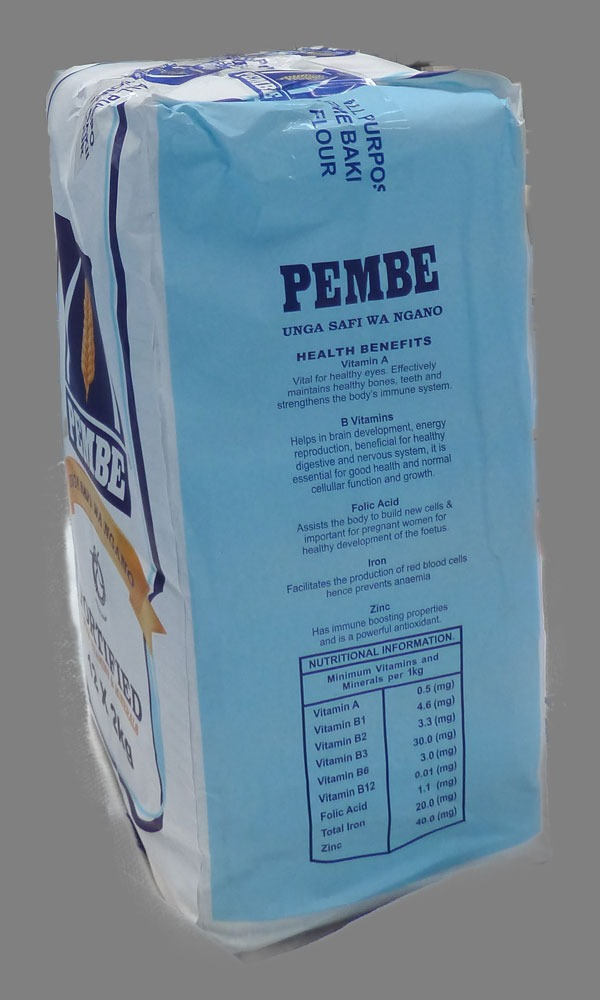wheat_flour_blue_label: (82, 55, 531, 935)
